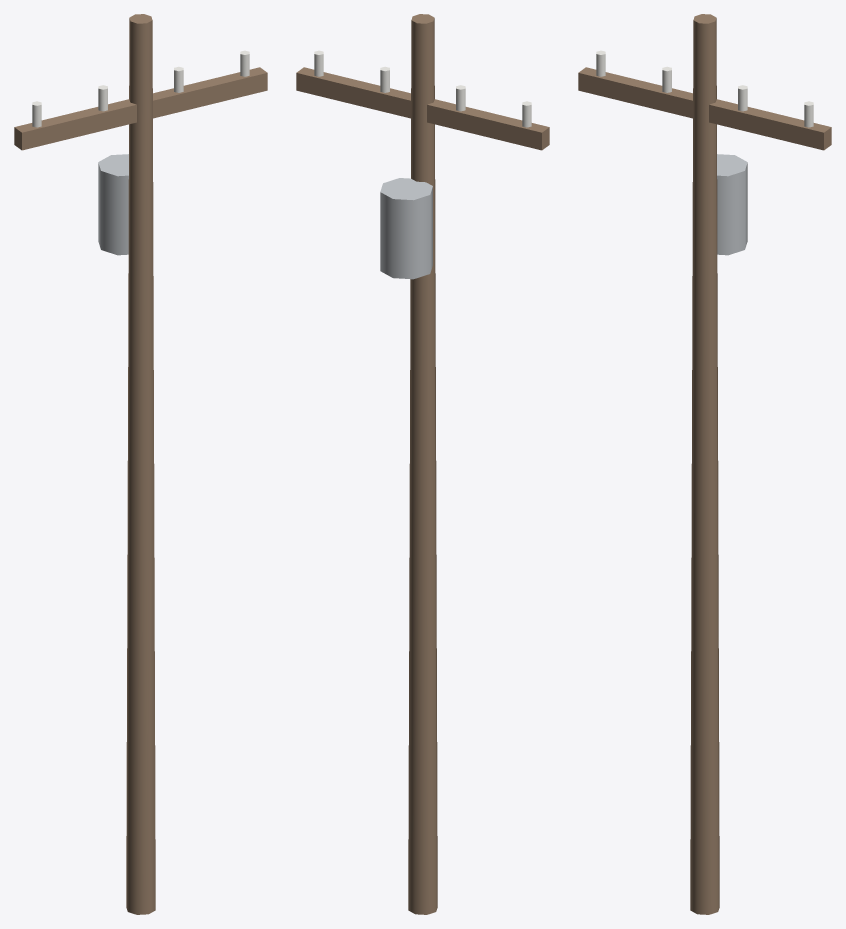
File: power_pole.glb
3 renders of one model, left to right at view 1: azimuth 30°, elevation 25°; view 2: azimuth 150°, elevation 25°; view 3: azimuth 330°, elevation 25°, orthographic.
Visible parts, largest first — view 1: power_pole; view 2: power_pole; view 3: power_pole.
Boxes of the visible parts, x1=… form: power_pole: x1=14, y1=14, x2=267, y2=914; power_pole: x1=296, y1=14, x2=549, y2=914; power_pole: x1=578, y1=14, x2=831, y2=914.
Bounding box in the file's own units: 2.6 × 9 × 0.69.
